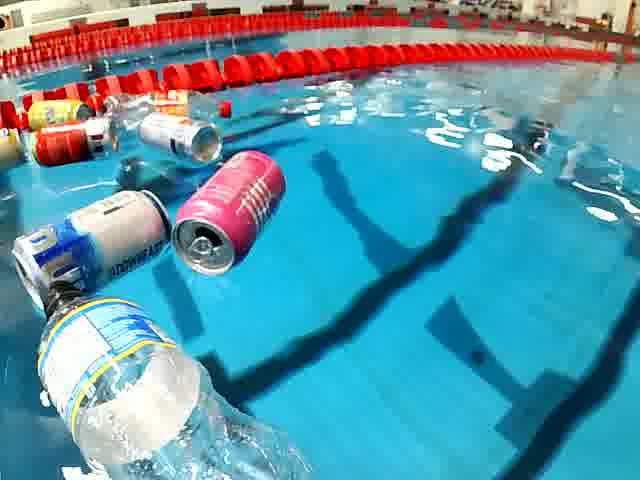Bottle: (29, 272, 328, 480), (98, 87, 238, 133)
Can: (3, 184, 181, 316), (164, 147, 296, 279), (24, 114, 124, 172), (130, 112, 226, 168), (15, 99, 99, 127)
